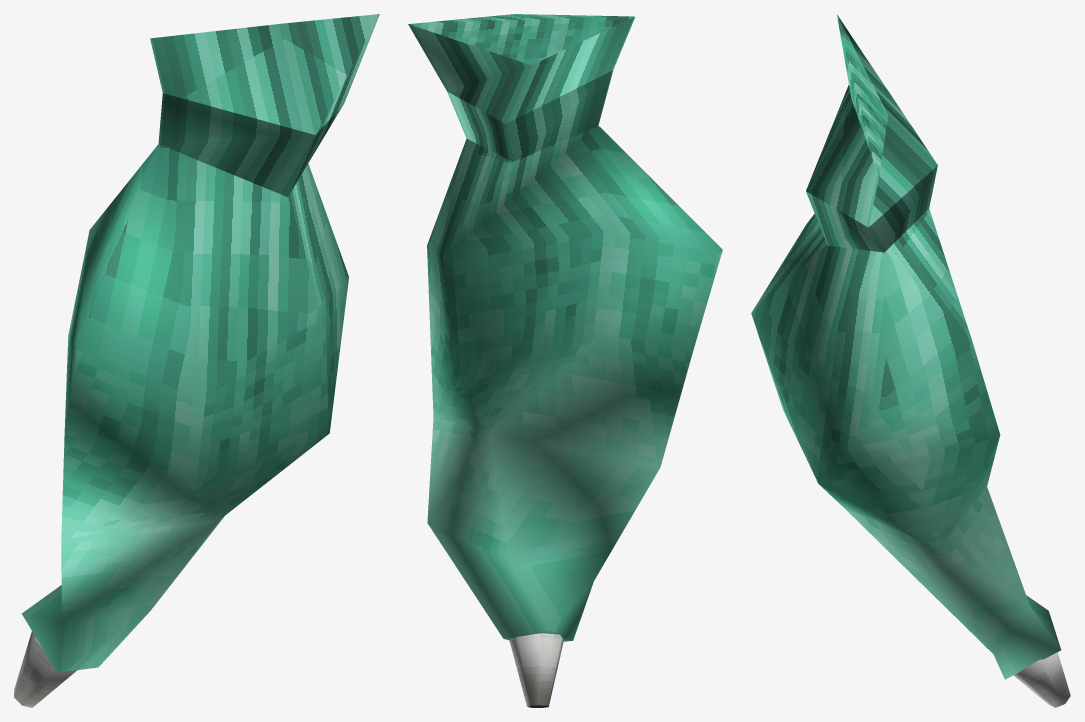
File: H_PipingBag.fbx
The picture shows the model from 3 angles, left to right: view 1: azimuth 30°, elevation 25°; view 2: azimuth 150°, elevation 25°; view 3: azimuth 270°, elevation 25°; orthographic projection. The views are drawn at different scales.
Parts seen in each view (by area): view 1: H_pipingbag; view 2: H_pipingbag; view 3: H_pipingbag.
Boxes of the visible parts, x1,y1,x2,y2 form: H_pipingbag: (14,14,379,707); H_pipingbag: (408,14,722,707); H_pipingbag: (751,14,1070,707).
Size of the model in its own units: 27.86 by 58.64 by 24.56.
